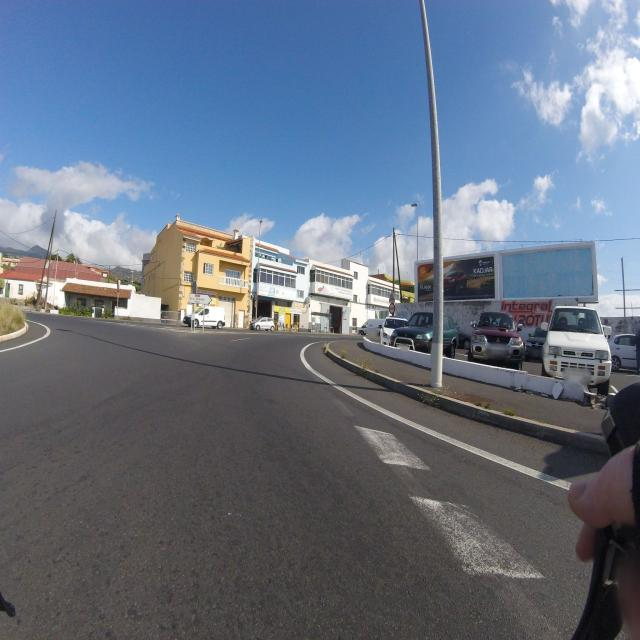car: (540, 302, 612, 393), (468, 309, 524, 370), (391, 310, 461, 354), (357, 316, 408, 344), (608, 333, 640, 375), (183, 306, 226, 330), (522, 326, 548, 362), (250, 316, 276, 332)
